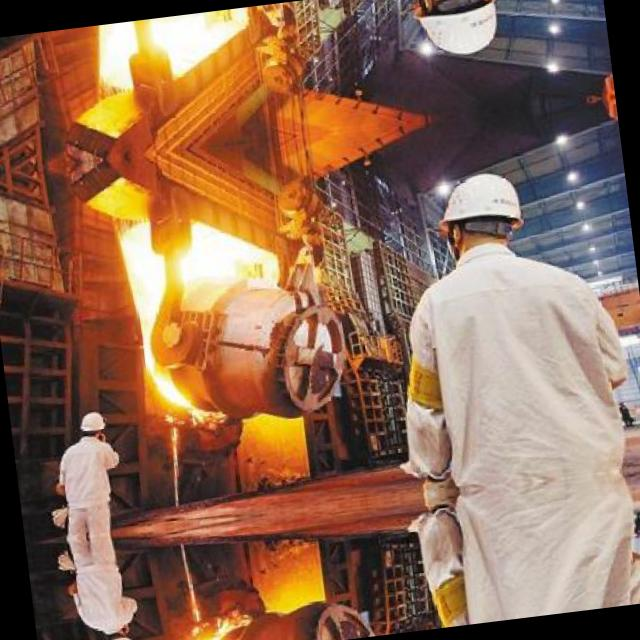helmet: (424, 158, 536, 272), (400, 0, 511, 68), (76, 408, 109, 442), (102, 622, 135, 640)
